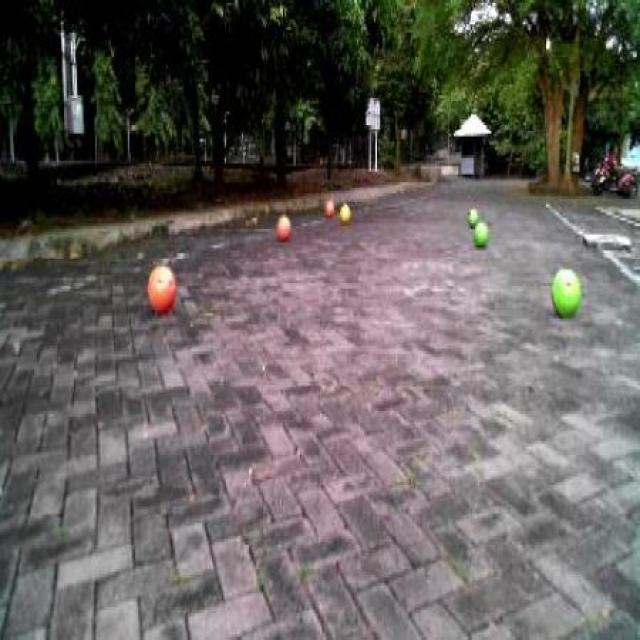buoy: (143, 256, 180, 319), (548, 260, 584, 320), (274, 207, 294, 242), (470, 215, 490, 250), (464, 202, 481, 230), (320, 194, 336, 218)
